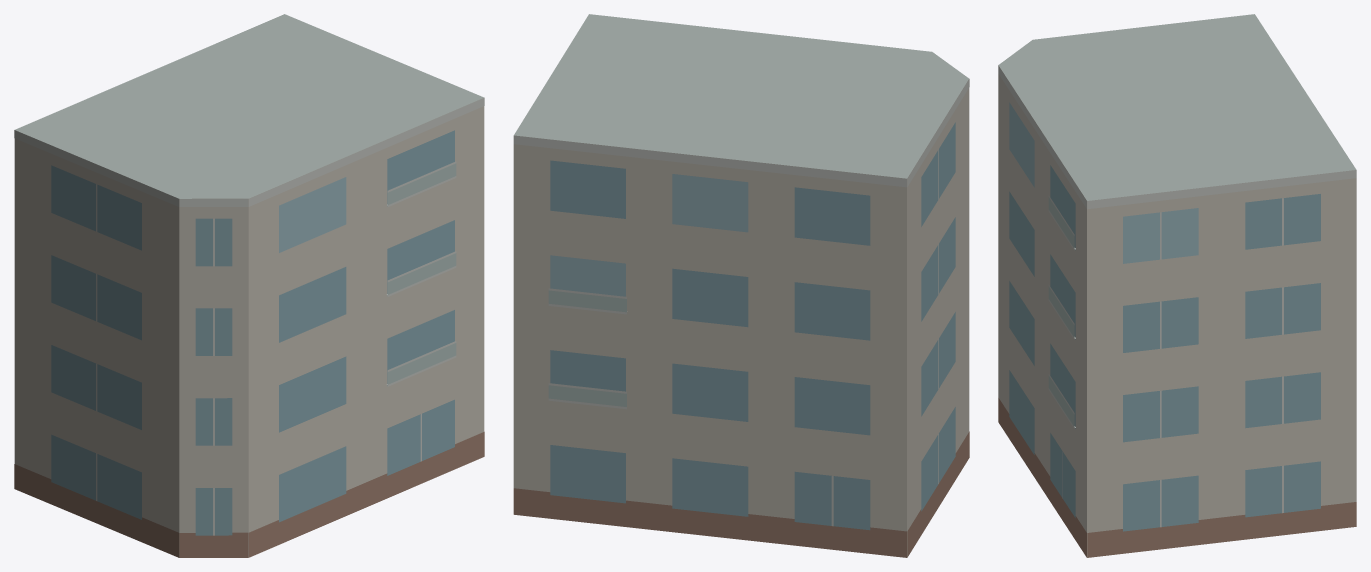
File: survey-upis-32966159.glb
3 views of the same model, side by side, from view 1: azimuth 30°, elevation 25°; view 2: azimuth 150°, elevation 25°; view 3: azimuth 270°, elevation 25° (orthographic). The views are drawn at different scales.
Visible parts, largest first — view 1: survey-upis-32966159.tmp; view 2: survey-upis-32966159.tmp; view 3: survey-upis-32966159.tmp.
Boxes of the visible parts, left/top/right/bottom form: survey-upis-32966159.tmp: left=14, top=14, right=484, bottom=557; survey-upis-32966159.tmp: left=513, top=14, right=969, bottom=557; survey-upis-32966159.tmp: left=998, top=14, right=1356, bottom=557.
Bounding box in the file's own units: 11.89 × 10.57 × 9.63.
